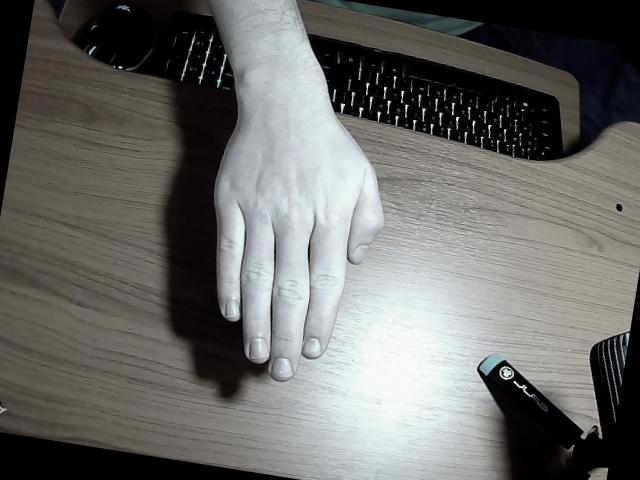paper: (206, 0, 383, 380)
